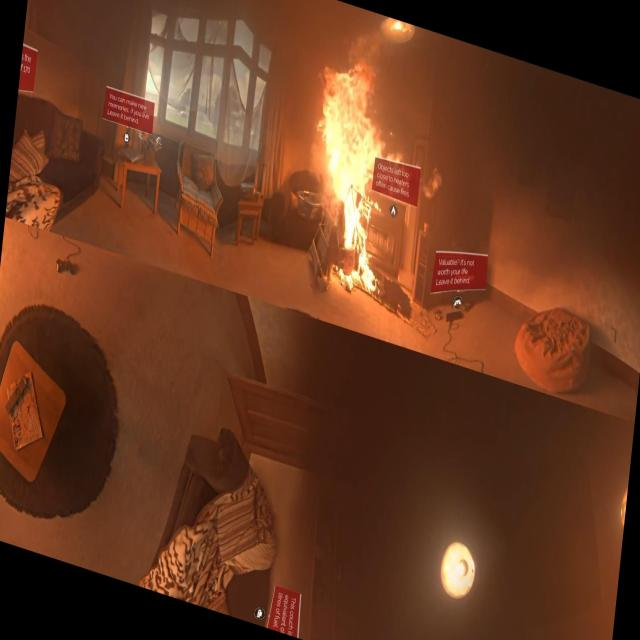fire: (306, 39, 396, 256)
